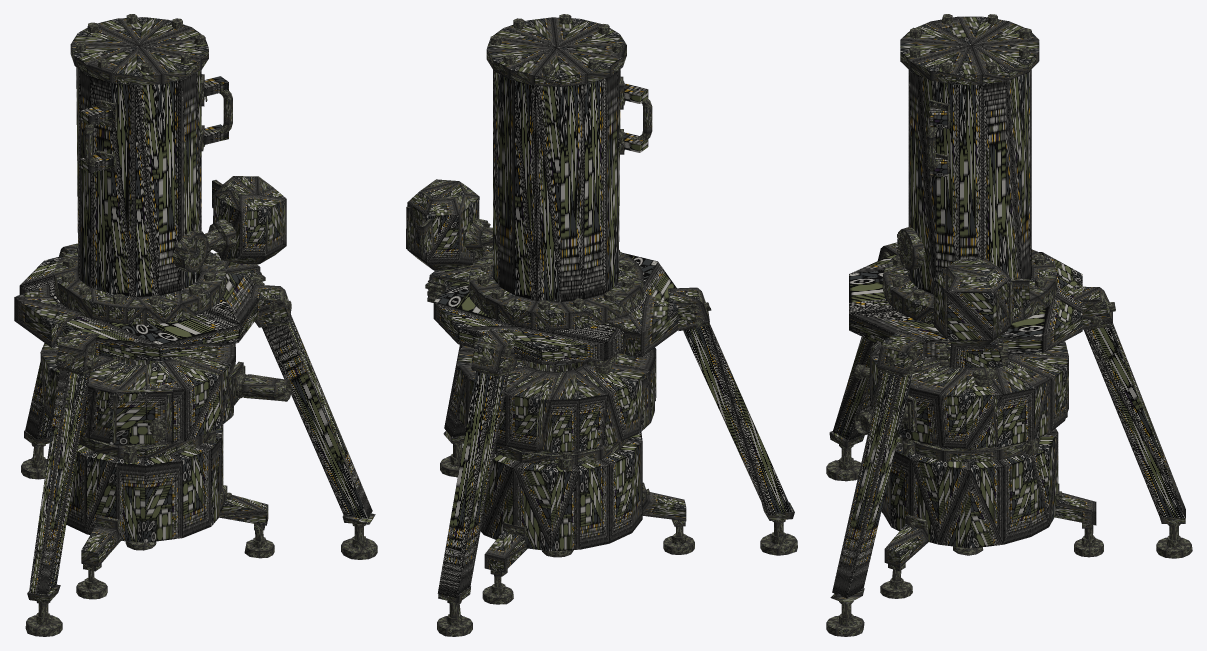
The model's file is 30-vacuum-drop-column.fbx.
The picture shows the model from 3 angles, left to right: view 1: azimuth 30°, elevation 25°; view 2: azimuth 150°, elevation 25°; view 3: azimuth 270°, elevation 25°; orthographic projection.
Parts seen in each view (by area): view 1: Meshy_Source_001, Meshy_Source_019, Meshy_Source_000, Meshy_Source_042, Meshy_Source_053, Meshy_Source_074, Meshy_Source_017, Meshy_Source_134, Meshy_Source_058, Meshy_Source_080, Meshy_Source_081, Meshy_Source_002 (+10 smaller); view 2: Meshy_Source_001, Meshy_Source_000, Meshy_Source_019, Meshy_Source_042, Meshy_Source_022, Meshy_Source_053, Meshy_Source_017, Meshy_Source_058, Meshy_Source_076, Meshy_Source_083, Meshy_Source_080, Meshy_Source_081 (+7 smaller); view 3: Meshy_Source_001, Meshy_Source_000, Meshy_Source_019, Meshy_Source_042, Meshy_Source_074, Meshy_Source_022, Meshy_Source_017, Meshy_Source_053, Meshy_Source_071, Meshy_Source_079, Meshy_Source_033, Meshy_Source_076 (+8 smaller).
Part boxes in pixels (left/top/right/bottom): Meshy_Source_001: left=54, top=17, right=226, bottom=324; Meshy_Source_019: left=66, top=424, right=223, bottom=542; Meshy_Source_000: left=40, top=343, right=235, bottom=458; Meshy_Source_042: left=19, top=255, right=259, bottom=361; Meshy_Source_053: left=29, top=369, right=90, bottom=594; Meshy_Source_074: left=262, top=314, right=372, bottom=518; Meshy_Source_017: left=213, top=176, right=286, bottom=264; Meshy_Source_134: left=110, top=389, right=173, bottom=444; Meshy_Source_058: left=14, top=284, right=82, bottom=347; Meshy_Source_080: left=56, top=328, right=99, bottom=375; Meshy_Source_081: left=81, top=515, right=120, bottom=566; Meshy_Source_002: left=236, top=372, right=291, bottom=401; Meshy_Source_001: left=469, top=17, right=643, bottom=329; Meshy_Source_000: left=457, top=345, right=655, bottom=466; Meshy_Source_019: left=480, top=432, right=642, bottom=551; Meshy_Source_042: left=433, top=253, right=676, bottom=364; Meshy_Source_022: left=437, top=371, right=508, bottom=603; Meshy_Source_053: left=683, top=323, right=792, bottom=515; Meshy_Source_017: left=407, top=179, right=479, bottom=270; Meshy_Source_058: left=605, top=294, right=678, bottom=357; Meshy_Source_076: left=471, top=330, right=518, bottom=376; Meshy_Source_083: left=484, top=522, right=527, bottom=572; Meshy_Source_080: left=668, top=287, right=709, bottom=330; Meshy_Source_081: left=642, top=482, right=686, bottom=521; Meshy_Source_001: left=883, top=16, right=1056, bottom=324; Meshy_Source_000: left=870, top=341, right=1068, bottom=462; Meshy_Source_019: left=881, top=428, right=1058, bottom=548; Meshy_Source_042: left=849, top=252, right=1082, bottom=357; Meshy_Source_074: left=832, top=372, right=912, bottom=597; Meshy_Source_022: left=1084, top=323, right=1185, bottom=523; Meshy_Source_017: left=934, top=258, right=1011, bottom=345; Meshy_Source_053: left=832, top=336, right=875, bottom=440; Meshy_Source_071: left=876, top=331, right=925, bottom=377; Meshy_Source_079: left=884, top=514, right=928, bottom=567; Meshy_Source_033: left=945, top=338, right=1002, bottom=367; Meshy_Source_076: left=1073, top=286, right=1112, bottom=329.
Bounding box in the file's own units: 1.26 × 1.75 × 1.14.
Materials: 7 (7 with a texture image).
